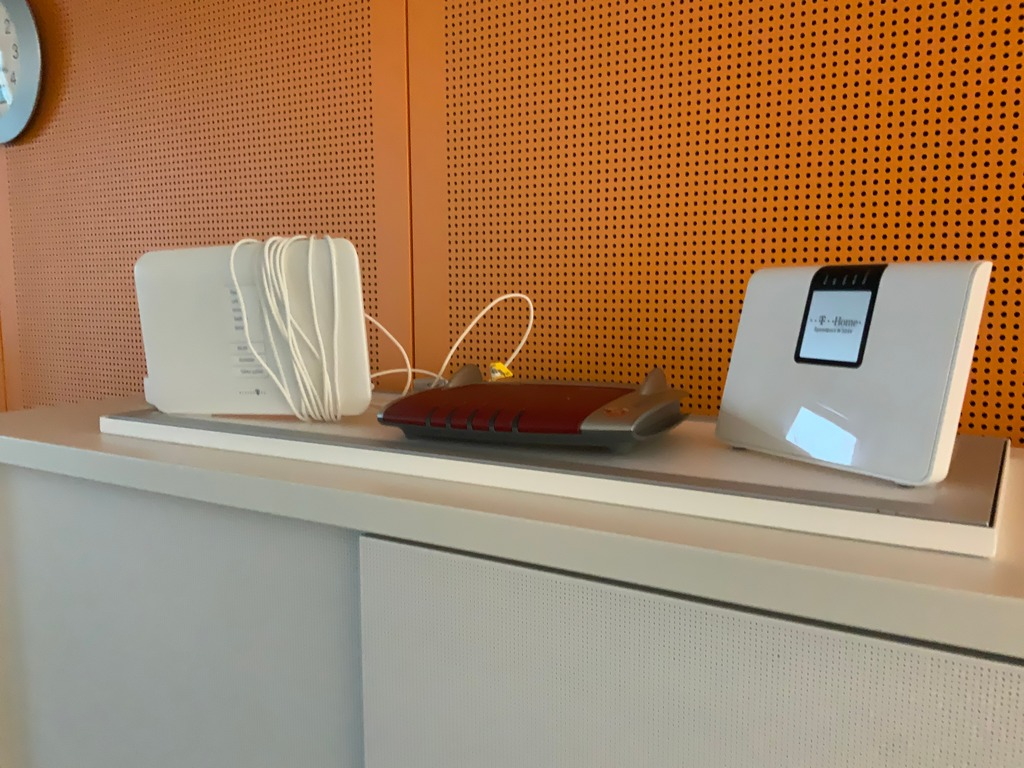Router2: (715, 256, 997, 494)
router: (138, 234, 379, 423)
router3: (392, 363, 686, 444)
